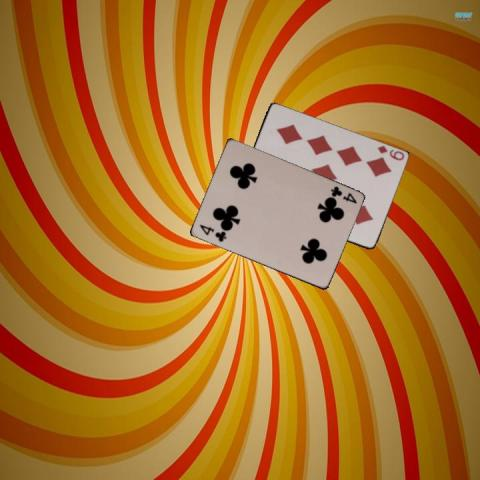4c: (196, 222, 228, 244), (327, 184, 358, 206)
9d: (374, 143, 405, 162)
